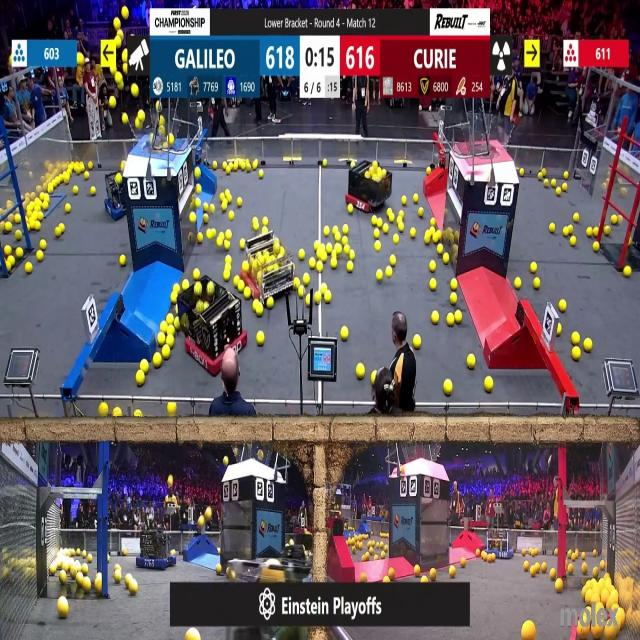ball_airborne: (205, 508, 212, 522), (120, 6, 128, 18), (132, 85, 139, 98), (115, 72, 122, 84), (109, 98, 116, 110), (113, 16, 120, 28), (138, 110, 146, 120), (168, 476, 174, 488), (121, 49, 127, 60), (115, 37, 121, 48), (121, 112, 127, 123), (77, 55, 83, 66), (199, 517, 205, 527), (222, 456, 228, 466), (110, 64, 116, 74), (169, 135, 174, 146), (160, 127, 166, 136), (122, 64, 127, 74), (160, 116, 166, 124), (136, 118, 141, 127)
ball_ground: (522, 622, 535, 640), (59, 598, 69, 618), (168, 403, 177, 418), (445, 380, 454, 395), (356, 363, 365, 378), (95, 578, 104, 593), (82, 579, 91, 594), (130, 582, 139, 596), (466, 354, 474, 369), (186, 630, 198, 640), (256, 333, 264, 347), (137, 372, 145, 386), (486, 378, 494, 392), (100, 404, 108, 418), (585, 339, 593, 352), (164, 346, 172, 359), (556, 580, 563, 594), (342, 326, 349, 340), (193, 282, 200, 296), (153, 354, 161, 366), (447, 314, 455, 326), (572, 348, 580, 360), (254, 305, 262, 317), (431, 312, 438, 325), (414, 337, 421, 350), (61, 570, 68, 583), (140, 359, 148, 370), (336, 244, 344, 255), (4, 221, 12, 232), (118, 254, 125, 266), (533, 278, 540, 290), (429, 279, 436, 291), (115, 570, 122, 582), (572, 334, 579, 346), (159, 334, 166, 346), (207, 282, 214, 294), (114, 409, 122, 419), (36, 251, 44, 261), (451, 280, 458, 291), (451, 292, 458, 303), (192, 270, 199, 281), (559, 301, 566, 312), (315, 292, 322, 303), (329, 257, 336, 268), (244, 288, 251, 299), (168, 337, 175, 348), (429, 568, 436, 579), (432, 233, 439, 244), (435, 244, 442, 255), (28, 219, 35, 230), (455, 312, 461, 324), (304, 274, 310, 286), (207, 231, 215, 240), (424, 234, 430, 246), (174, 317, 180, 329), (530, 264, 537, 274), (324, 292, 331, 302), (347, 263, 354, 273), (625, 268, 632, 278), (386, 268, 393, 278), (593, 242, 600, 252), (375, 242, 382, 252), (323, 225, 330, 235), (188, 212, 195, 222), (563, 226, 570, 236), (4, 246, 11, 256), (81, 564, 88, 574), (168, 314, 175, 324), (316, 262, 323, 272), (320, 251, 327, 261), (198, 234, 205, 244), (349, 250, 356, 260), (530, 566, 537, 576), (168, 324, 175, 334), (64, 172, 71, 182), (516, 278, 522, 289), (27, 264, 33, 275), (450, 566, 456, 577), (298, 249, 304, 260), (268, 297, 274, 308), (298, 286, 304, 297), (414, 565, 420, 576), (182, 280, 188, 291), (252, 219, 258, 230), (307, 261, 313, 272), (580, 563, 586, 574), (369, 374, 375, 385), (238, 280, 244, 291), (6, 255, 14, 263), (15, 248, 22, 257), (610, 215, 617, 224), (193, 200, 200, 209), (344, 246, 351, 255), (193, 169, 200, 178), (336, 234, 343, 243), (230, 570, 237, 579), (240, 240, 246, 250), (390, 255, 396, 265), (411, 229, 417, 239), (570, 237, 576, 247), (172, 292, 178, 302), (343, 224, 349, 234), (40, 240, 46, 250), (243, 263, 249, 273), (444, 253, 450, 263), (35, 220, 41, 230), (306, 295, 312, 305), (223, 240, 229, 250), (604, 225, 610, 235), (524, 561, 530, 571), (556, 324, 562, 334), (393, 235, 399, 245), (429, 263, 435, 273), (360, 571, 366, 581), (551, 568, 557, 578), (567, 564, 573, 574), (388, 213, 394, 223), (56, 229, 62, 239), (326, 244, 332, 254), (593, 228, 599, 238), (293, 277, 299, 287), (6, 263, 12, 273), (162, 322, 168, 332), (221, 202, 227, 212), (541, 562, 547, 572), (42, 201, 48, 211), (34, 212, 40, 222), (47, 183, 53, 193), (489, 554, 496, 562), (378, 271, 383, 282), (223, 272, 229, 281), (348, 205, 354, 214), (224, 232, 230, 241), (204, 214, 210, 223), (65, 204, 71, 213), (375, 231, 381, 240), (460, 558, 466, 567), (14, 232, 20, 241), (588, 226, 594, 235), (397, 222, 403, 231), (400, 197, 406, 206), (573, 213, 579, 222), (414, 193, 420, 202), (542, 179, 548, 188), (204, 203, 210, 212), (252, 163, 258, 172), (246, 164, 252, 173), (216, 564, 221, 574), (371, 216, 376, 226), (383, 223, 388, 233), (314, 241, 319, 251), (60, 223, 65, 233), (321, 283, 326, 293), (378, 218, 383, 228), (135, 412, 142, 419), (381, 553, 388, 560), (388, 568, 394, 576), (237, 199, 243, 207), (217, 239, 223, 247), (224, 256, 230, 264), (562, 182, 568, 190), (83, 172, 89, 180), (343, 237, 349, 245), (225, 194, 231, 202), (362, 554, 368, 562), (331, 224, 337, 232), (14, 215, 20, 223), (593, 568, 599, 576), (541, 170, 547, 178), (92, 186, 97, 195), (419, 208, 424, 217), (73, 185, 78, 194), (235, 277, 240, 286), (195, 184, 200, 193), (551, 223, 556, 232), (600, 561, 605, 570), (384, 575, 390, 582), (420, 575, 427, 581), (223, 266, 230, 272), (173, 284, 179, 291), (264, 217, 269, 225), (258, 171, 263, 179), (210, 204, 214, 214), (557, 187, 562, 195), (552, 179, 557, 187), (426, 168, 431, 176), (228, 212, 233, 220), (564, 172, 569, 180), (398, 210, 403, 218), (376, 553, 381, 561), (580, 553, 585, 561), (483, 552, 488, 560), (520, 169, 524, 178), (430, 218, 435, 225), (475, 550, 480, 557), (322, 161, 327, 168), (225, 168, 230, 175), (522, 550, 527, 557), (530, 550, 535, 557), (220, 192, 224, 200), (89, 555, 93, 563), (107, 556, 111, 564), (537, 172, 541, 180), (122, 549, 126, 557), (120, 162, 124, 170), (114, 564, 119, 570), (90, 163, 94, 170), (213, 161, 217, 168), (555, 550, 559, 557), (217, 546, 220, 554), (594, 551, 598, 557)
goal: (461, 119, 518, 158), (129, 116, 185, 152)
robot_blue: (136, 530, 174, 570), (104, 175, 128, 221), (482, 526, 514, 558)
robot_red: (181, 286, 246, 375), (245, 235, 296, 301), (346, 159, 392, 212)
